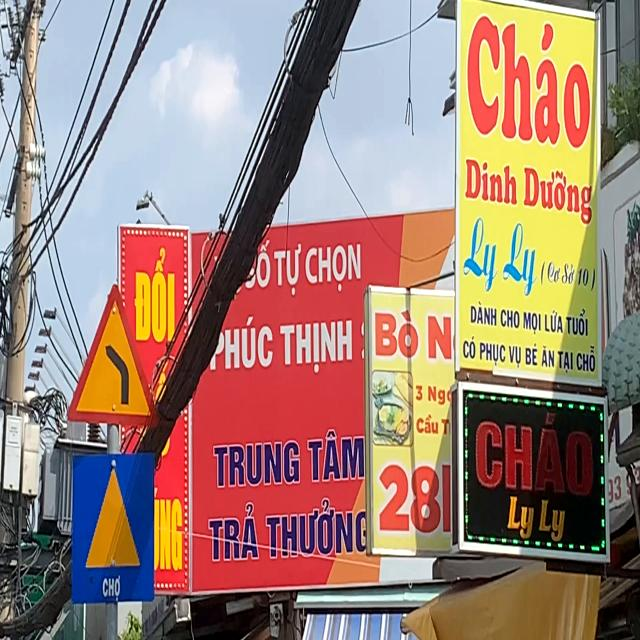W.201a: (62, 269, 158, 430)
